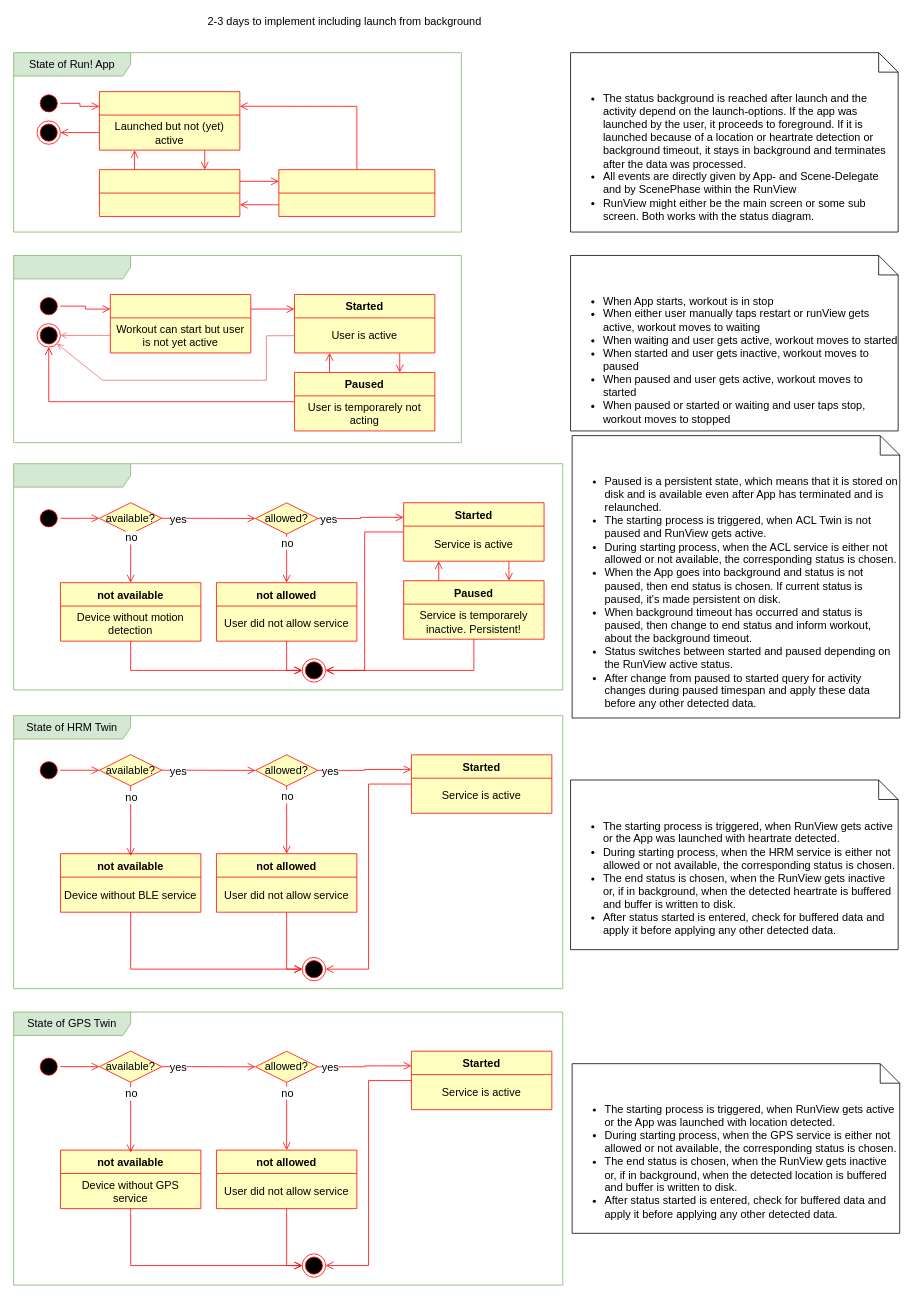
Image size: 913x1299. Some labels were removed from this diagram. The box of each missing label's shape, as (x1, y1, x2, y2) in pixels:
Background: (99, 91, 240, 150)
Foreground RunView Active: (278, 169, 435, 216)
Foreground RunView Inactive: (99, 169, 240, 216)
State of ACL Twin: (13, 463, 563, 690)
State of Workout: (13, 255, 461, 443)
Waiting: (110, 294, 251, 353)
